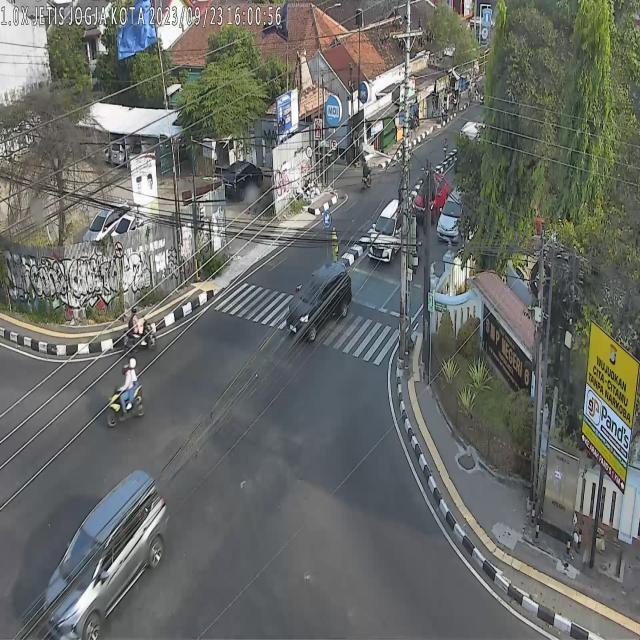car: (43, 467, 169, 640), (288, 261, 352, 344), (368, 200, 402, 262), (412, 172, 448, 223), (436, 187, 465, 245)
motorcycle: (106, 357, 144, 428), (122, 306, 157, 354), (361, 160, 372, 192)
